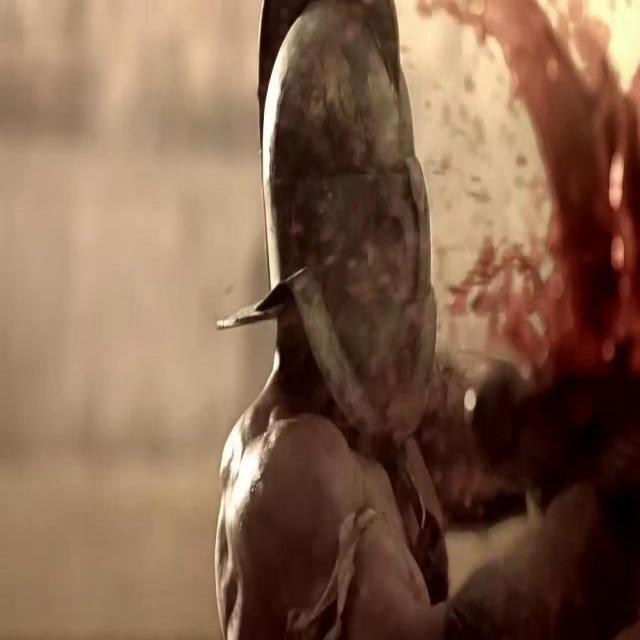flood: (443, 2, 640, 380)
